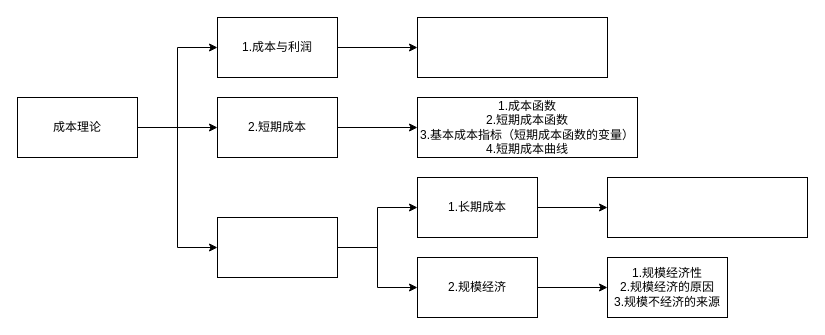
Image size: 825x335. Some labels were removed from this diagram. The shapes that lost their labels are listed below. From the top down, each one's box as (x1, y1, x2, y2) in pixels, then its label:
(416, 16, 608, 78): 1.会计成本、机会成本与经济成本 2.会计利润、经济利润和正常利润
(606, 176, 808, 238): 1.长期成本函数 2.长期总成本曲线的形状 3.长期平均成本和长期边际成本函数 4.长期平均成本（TAC）与 短期平均成本（STC）的关系
(216, 216, 338, 278): 3.长期成本与规模经济
